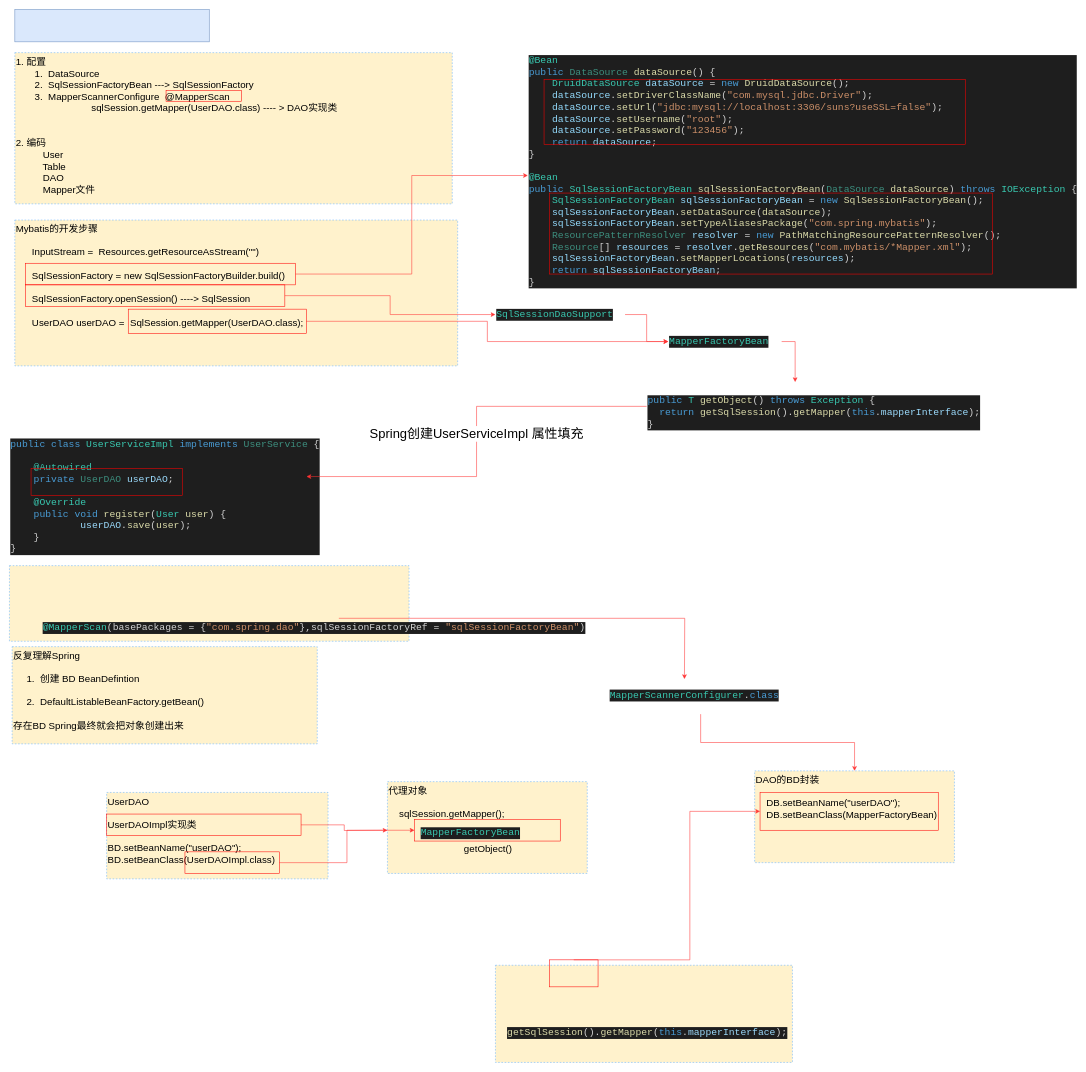
The diagram is 1086 pixels wide and 1072 high, and some of its shapes have lost their labels. The box of each missing label's shape, as (x1, y1, x2, y2) in pixels:
ac.getBean("userDAO") MapperFactoryBean: (495, 965, 792, 1062)
Spring与Mybatis整合源码分析: (14, 9, 209, 42)
问题： MapperFactoryBean 什么时候介入的？ 🤔 ： 整合代码，什么时机，或者 在什么位置 出发。: (9, 565, 409, 641)
